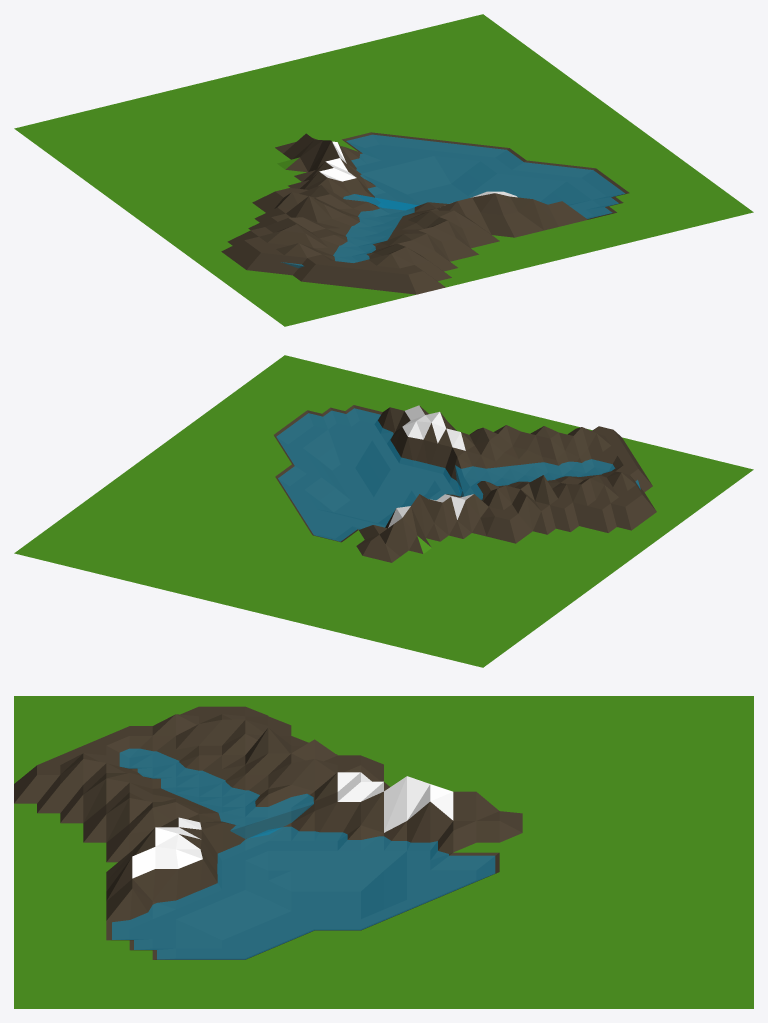
Rendered from constellationIsland4D.dae.
3 renders of one model, top to bottom at view 1: azimuth 30°, elevation 25°; view 2: azimuth 150°, elevation 25°; view 3: azimuth 270°, elevation 25°, orthographic. The views are drawn at different scales.
Visible parts, largest first — view 1: Plane, Plane.1, Cube; view 2: Plane, Plane.1, Cube; view 3: Plane, Plane.1, Cube.
Part boxes in pixels (box(x1,y1,x2,y2)): Plane: box(14, 14, 753, 326); Plane.1: box(346, 134, 624, 218); Cube: box(281, 194, 418, 268); Plane: box(14, 355, 753, 667); Plane.1: box(276, 408, 461, 541); Cube: box(455, 459, 640, 499); Plane: box(14, 696, 753, 1008); Plane.1: box(112, 826, 495, 959); Cube: box(119, 748, 313, 838).
Size of the model in its own units: 1991 by 227 by 1991.
